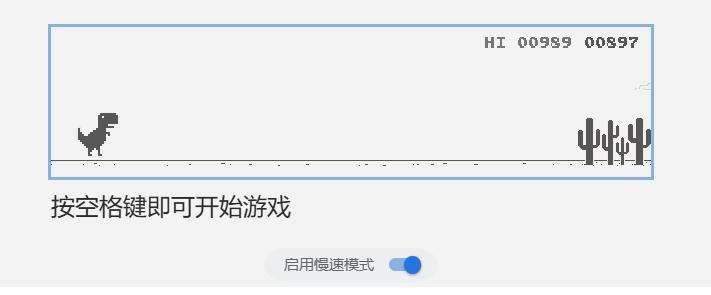cactus: (577, 115, 652, 168)
dino: (78, 109, 118, 158)
